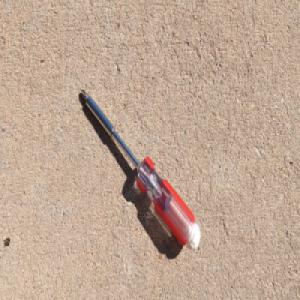Screwdriver: (78, 84, 202, 253)
